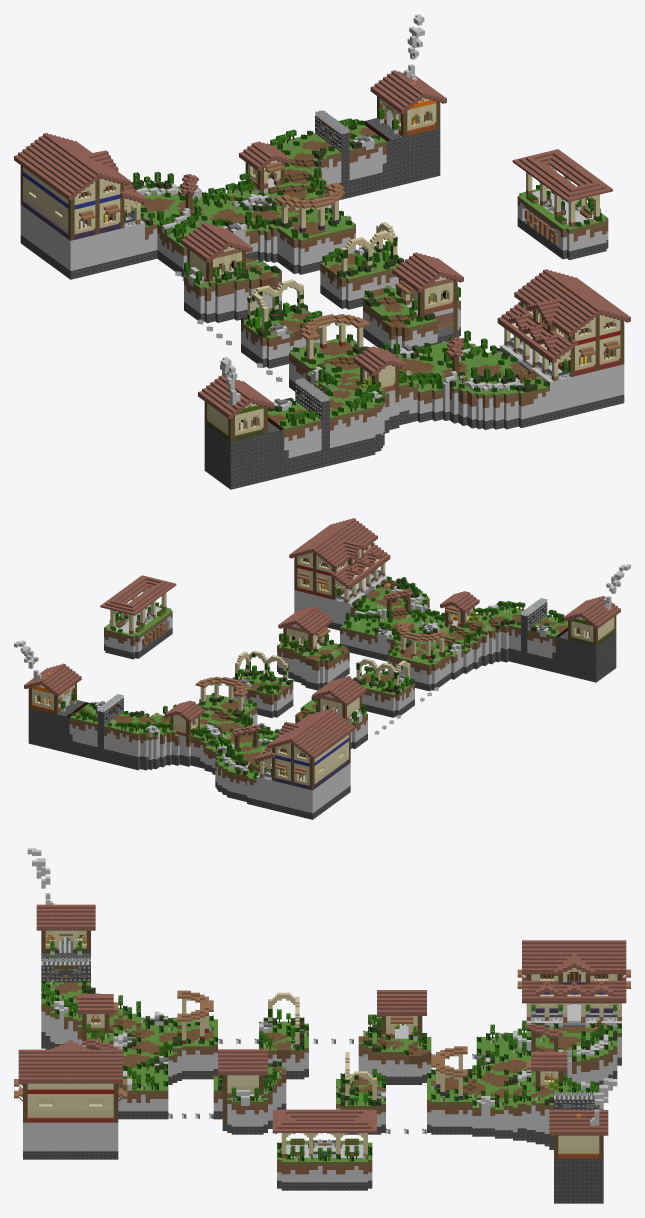
Rendered from minecraft.obj.
3 views of the same model, one above another, from view 1: azimuth 30°, elevation 25°; view 2: azimuth 150°, elevation 25°; view 3: azimuth 270°, elevation 25° (orthographic). The views are drawn at different scales.
Size of the model in its own units: 125 by 31 by 136.
